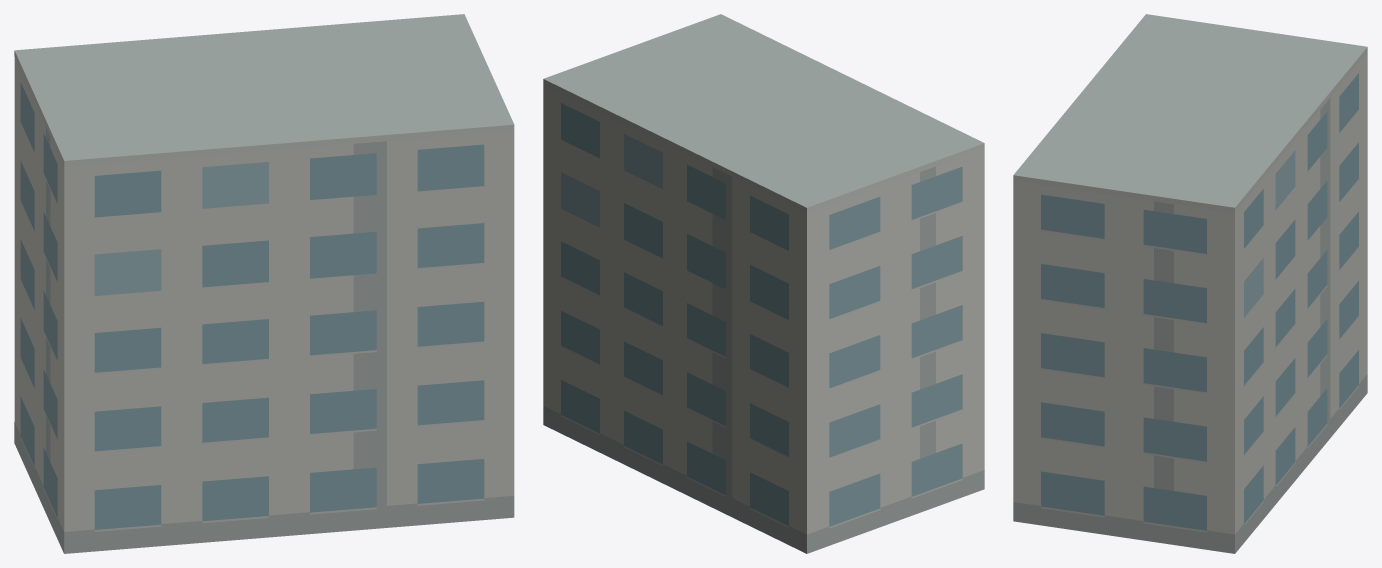
File: residential-8c7e9075-e393-40be-babd-160786c14420.glb
The picture shows the model from 3 angles, left to right: view 1: azimuth 30°, elevation 25°; view 2: azimuth 150°, elevation 25°; view 3: azimuth 270°, elevation 25°; orthographic projection. The views are drawn at different scales.
Parts seen in each view (by area): view 1: residential-8c7e9075-e393-40be-babd-160786c14420.tmp; view 2: residential-8c7e9075-e393-40be-babd-160786c14420.tmp; view 3: residential-8c7e9075-e393-40be-babd-160786c14420.tmp.
Boxes of the visible parts, x1,y1,x2,y2 form: residential-8c7e9075-e393-40be-babd-160786c14420.tmp: (14,14,514,553); residential-8c7e9075-e393-40be-babd-160786c14420.tmp: (543,14,984,553); residential-8c7e9075-e393-40be-babd-160786c14420.tmp: (1013,14,1367,553).
Size of the model in its own units: 18.32 by 15.25 by 14.16.
